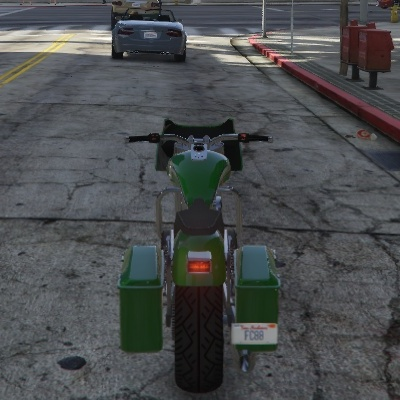on: (184, 250, 216, 279)
